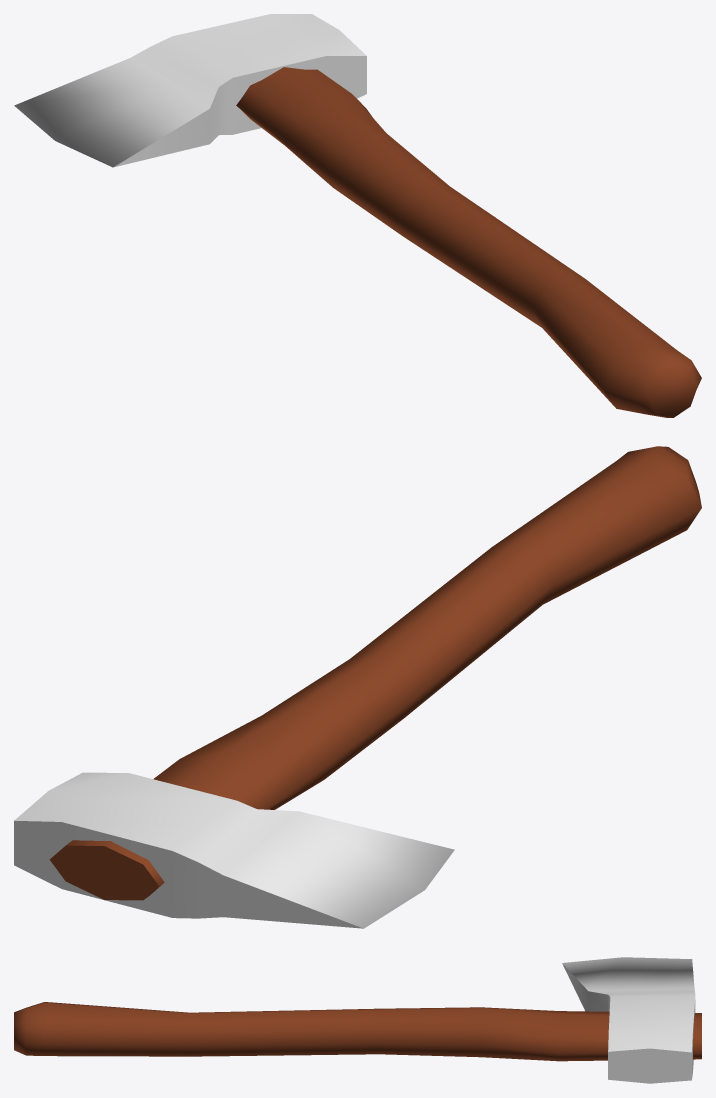
Rendered from axe.glb.
The picture shows the model from 3 angles, top to bottom: view 1: azimuth 30°, elevation 25°; view 2: azimuth 150°, elevation 25°; view 3: azimuth 270°, elevation 25°; orthographic projection. The views are drawn at different scales.
Parts seen in each view (by area): view 1: Cylinder.001; view 2: Cylinder.001; view 3: Cylinder.001.
Part boxes in pixels (<box>): Cylinder.001: <box>14,14,701,417</box>; Cylinder.001: <box>14,446,701,928</box>; Cylinder.001: <box>14,957,701,1083</box>.
Size of the model in its own units: 0.2568 by 0.0568 by 0.6833.
